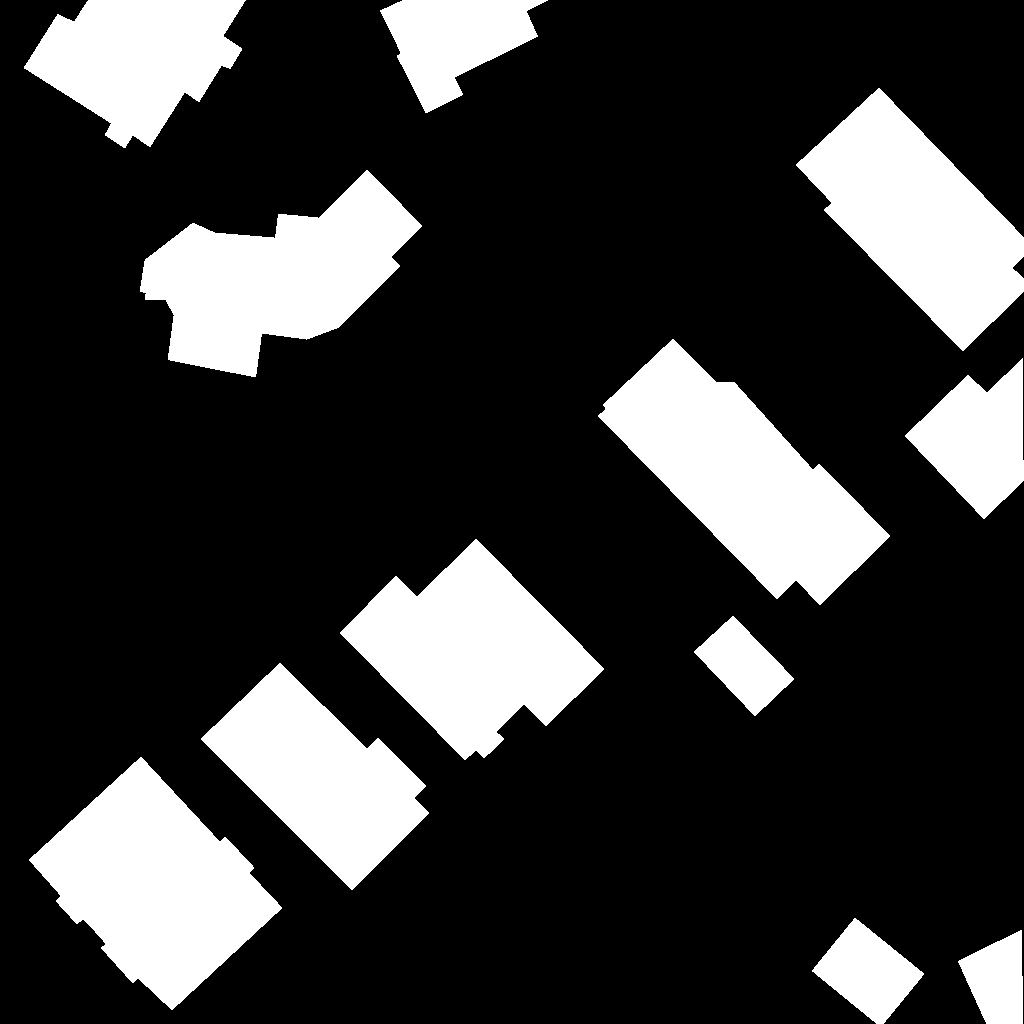building: (598, 339, 891, 606), (29, 757, 283, 1011), (796, 88, 1024, 352), (140, 170, 423, 378), (340, 539, 605, 761), (201, 663, 430, 891), (24, 0, 247, 149), (905, 358, 1024, 520), (380, 0, 549, 114), (812, 918, 925, 1024), (694, 616, 795, 717), (958, 930, 1024, 1024)
